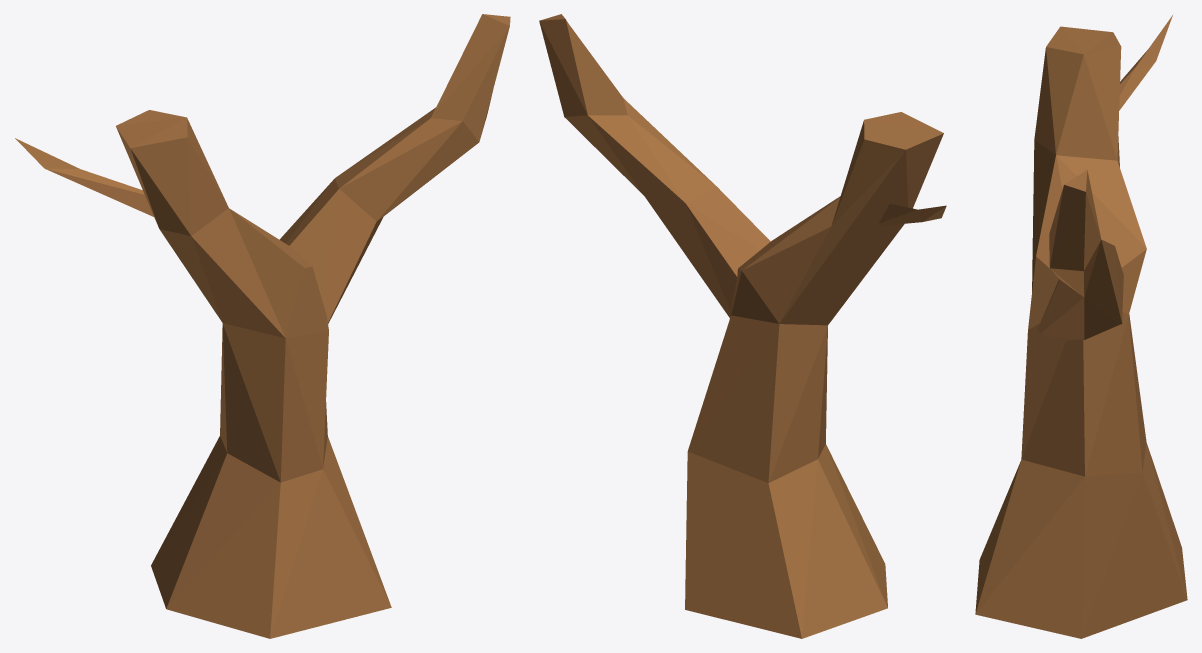
Rendered from tree_dead2.fbx.
The picture shows the model from 3 angles, left to right: view 1: azimuth 30°, elevation 25°; view 2: azimuth 150°, elevation 25°; view 3: azimuth 270°, elevation 25°; orthographic projection.
Parts seen in each view (by area): view 1: tree_dead2; view 2: tree_dead2; view 3: tree_dead2.
Part boxes in pixels (x1=…): tree_dead2: x1=15, y1=14, x2=510, y2=638; tree_dead2: x1=539, y1=14, x2=946, y2=638; tree_dead2: x1=975, y1=15, x2=1187, y2=638.
Bounding box in the file's own units: 1.75 × 1.96 × 0.7103.
